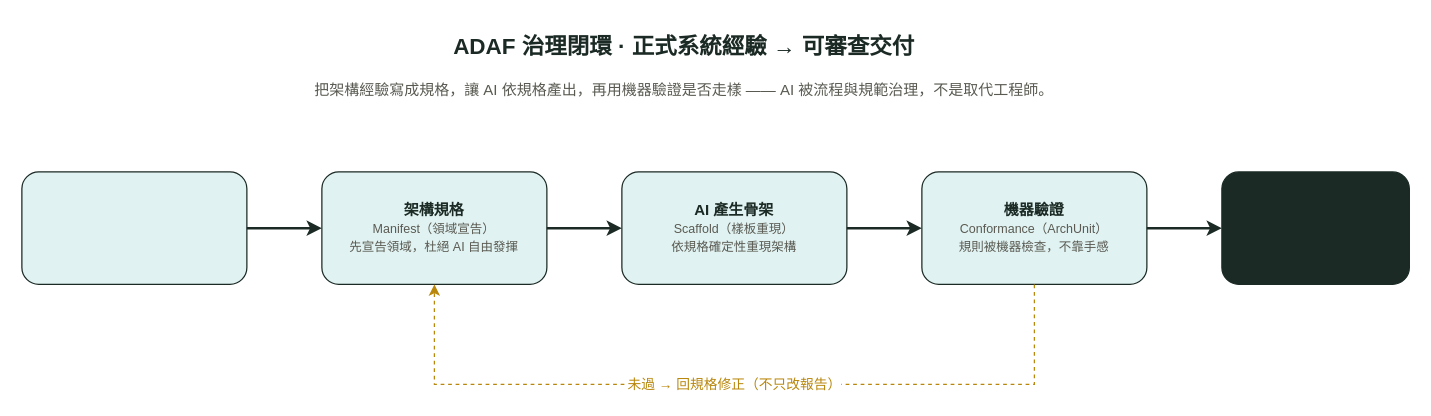
Some shapes in this 1431 by 416 pixel diagram are drawn without their labels. The shapes that lost their labels are listed below. From the top down, each one's centre as x and y in pixels, then its label:
At (134,227): "正式系統經驗 Production-Proven Practices 高並發交易後端淬煉的架構慣例".
At (1315,227): "可審查交付 Auditable Delivery 可治理 · 可審查 · 可追責".
